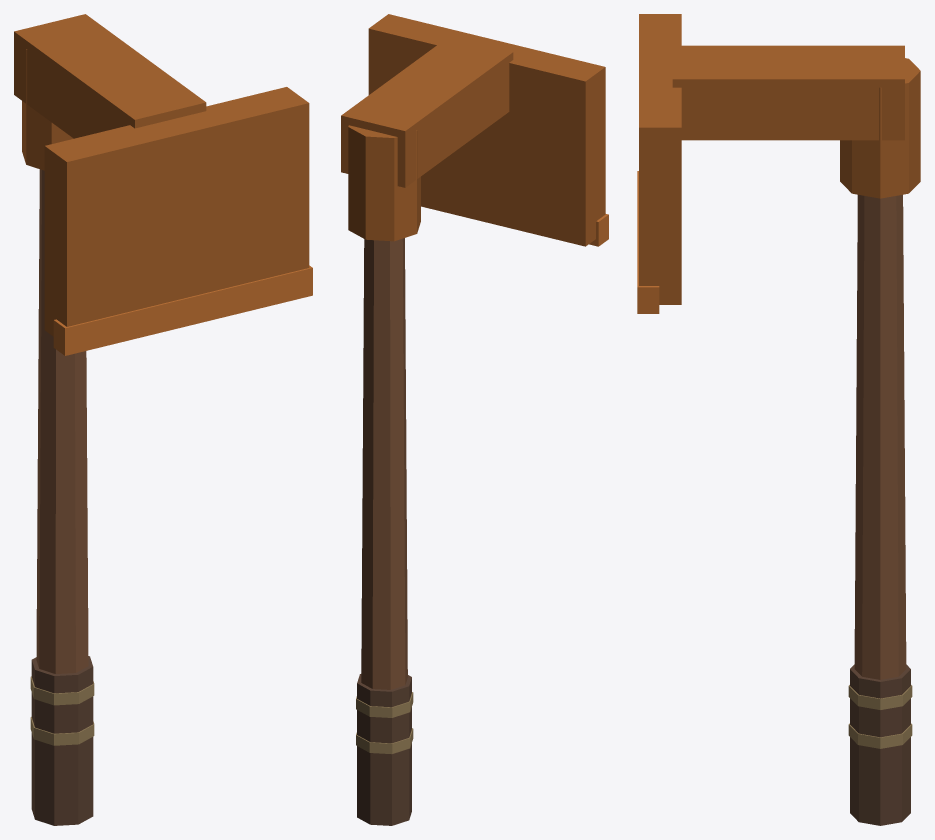
Rendered from tool_hoe_copper.glb.
The picture shows the model from 3 angles, left to right: view 1: azimuth 30°, elevation 25°; view 2: azimuth 150°, elevation 25°; view 3: azimuth 270°, elevation 25°; orthographic projection. The views are drawn at different scales.
Visible parts, largest first — view 1: tool_hoe_copper; view 2: tool_hoe_copper; view 3: tool_hoe_copper.
Part boxes in pixels (x1,y1,x2,y2): tool_hoe_copper: [14, 14, 312, 825]; tool_hoe_copper: [341, 14, 608, 825]; tool_hoe_copper: [637, 14, 920, 825].
Bounding box in the file's own units: 0.225 × 0.6775 × 0.232.
